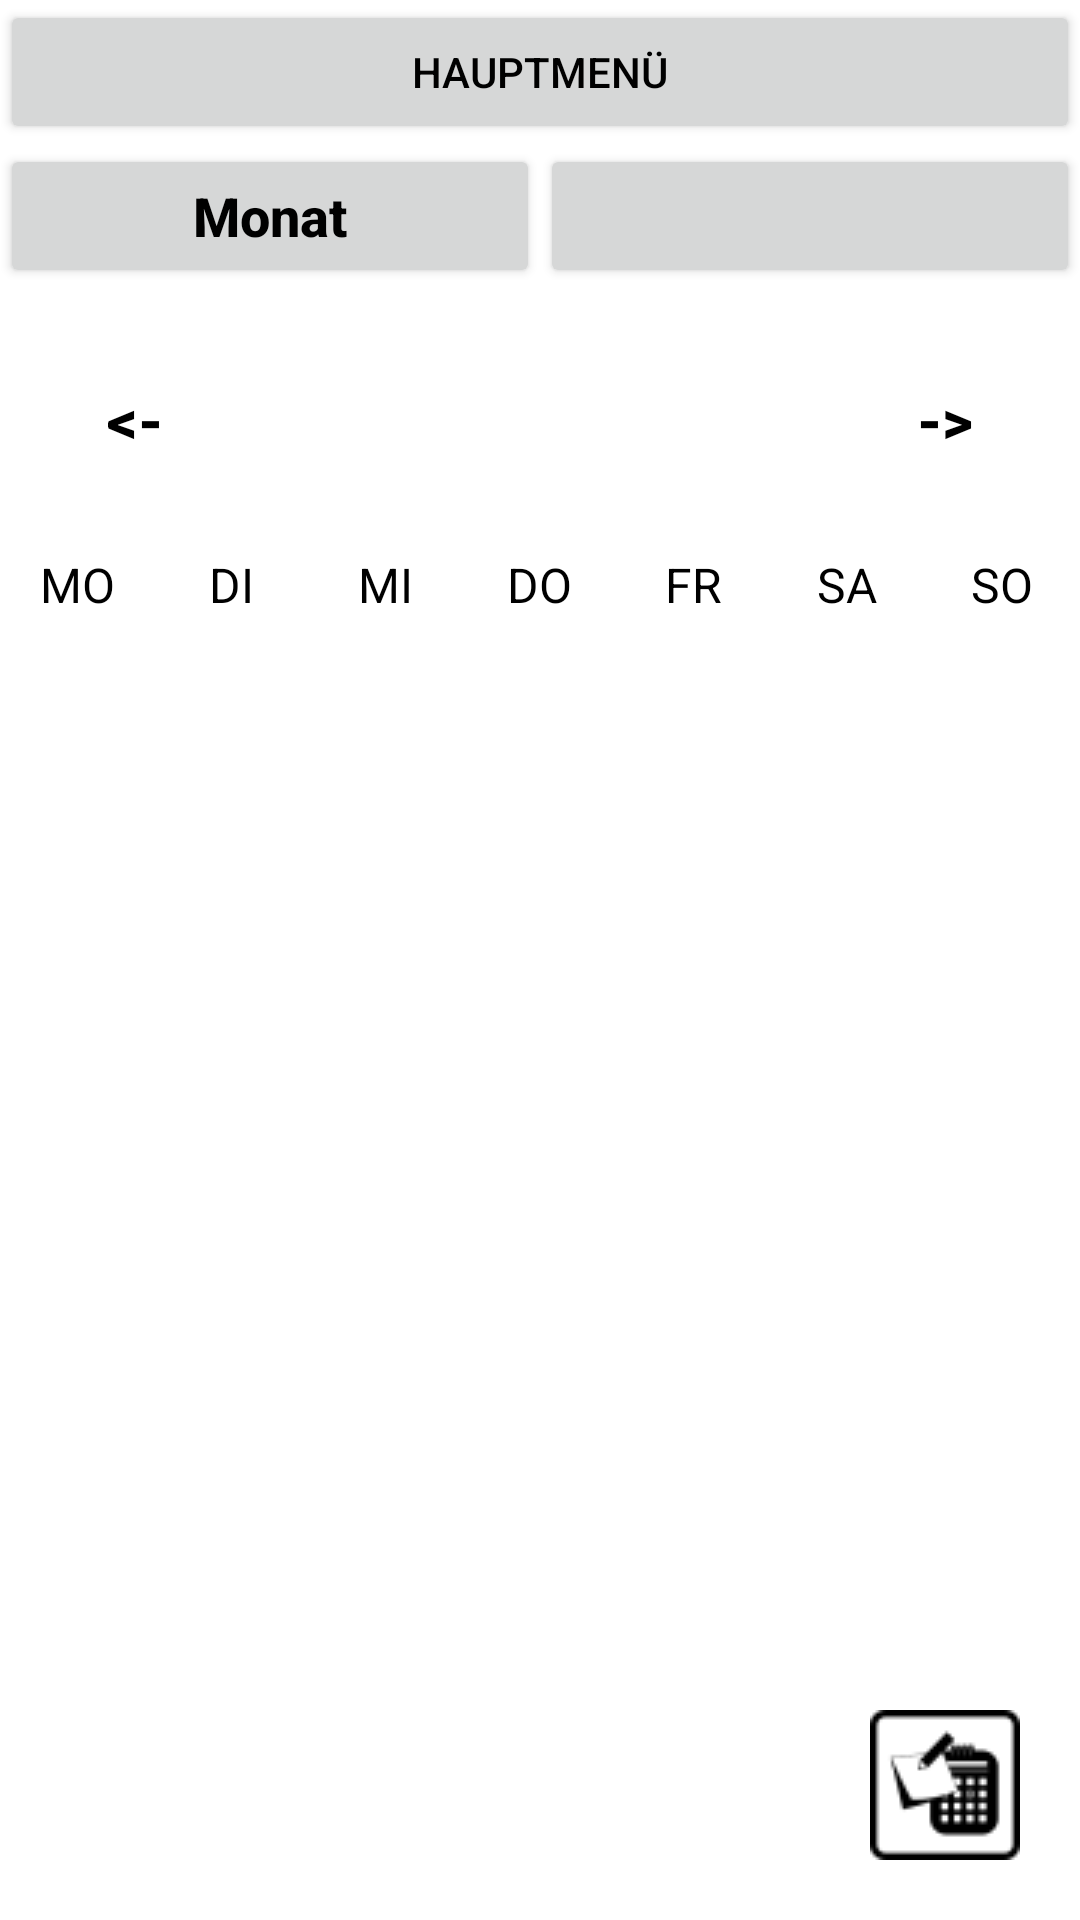

Icon bounding boxes for this 1080px×1920px phone screenshot, format (x1, y1, x2, y2):
calendar symbol: (870, 1710, 1020, 1860)
